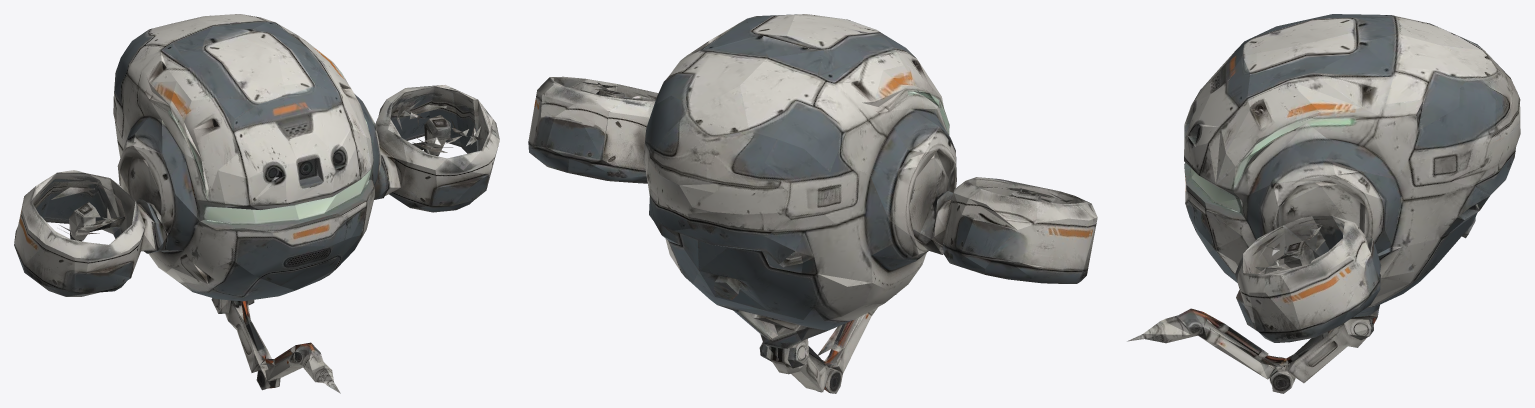
Rendered from repair-drone.glb.
3 renders of one model, left to right at view 1: azimuth 30°, elevation 25°; view 2: azimuth 150°, elevation 25°; view 3: azimuth 270°, elevation 25°, orthographic. The views are drawn at different scales.
Visible parts, largest first — view 1: Mesh_0; view 2: Mesh_0; view 3: Mesh_0.
Part boxes in pixels (<box>): Mesh_0: <box>14,14,499,393</box>; Mesh_0: <box>528,14,1097,393</box>; Mesh_0: <box>1127,14,1520,393</box>.
Bounding box in the file's own units: 0.32 × 0.216 × 0.2153.
Materials: 1 (1 with a texture image).
